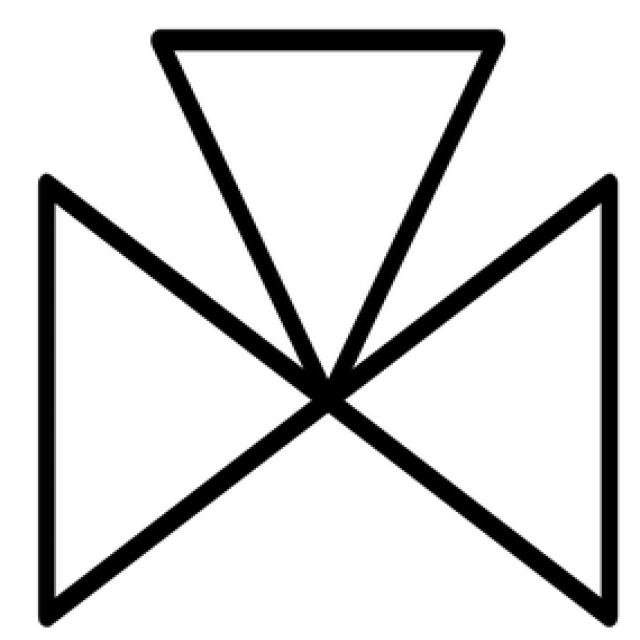3-way Valve: (44, 180, 328, 626), (156, 39, 495, 400), (330, 190, 609, 619)
